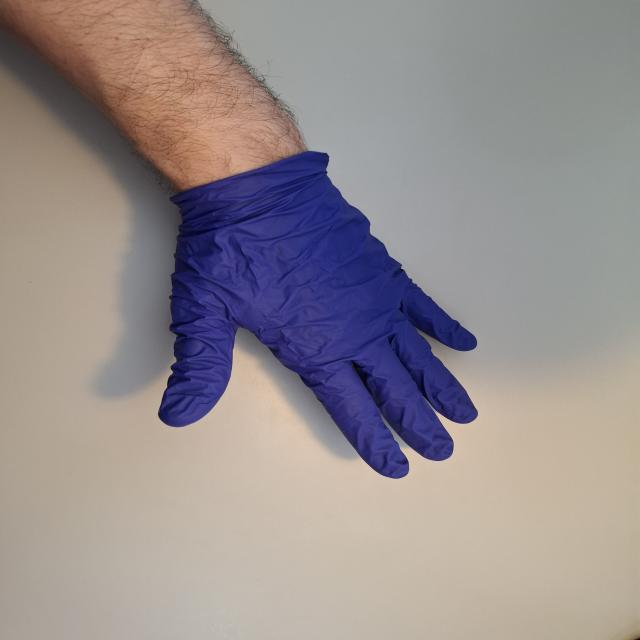glove_on: (154, 151, 484, 482)
